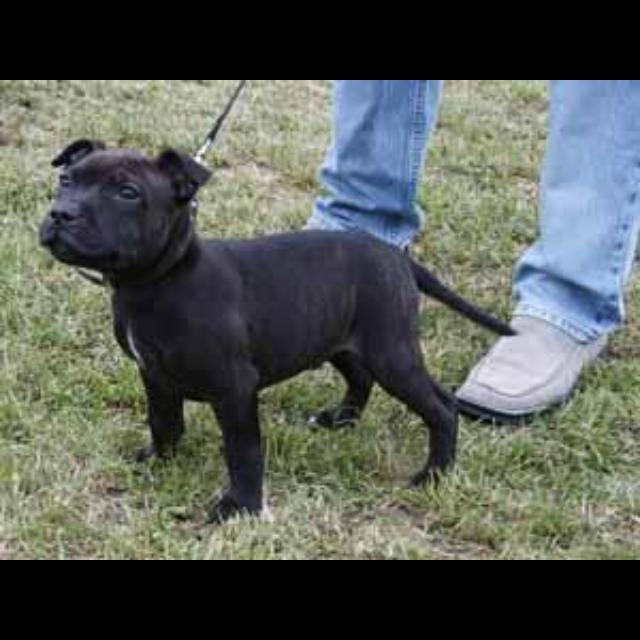staffford: (37, 137, 517, 525)
